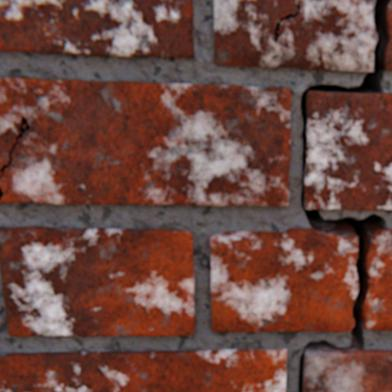brick: (0, 78, 290, 206), (0, 227, 195, 336), (0, 349, 287, 391), (0, 0, 194, 59), (304, 92, 391, 210), (303, 349, 391, 391)
broken_brick: (211, 228, 358, 331), (215, 0, 377, 72), (364, 228, 391, 330), (385, 1, 391, 71)
crack: (299, 0, 391, 391), (0, 115, 31, 179), (275, 0, 300, 45), (0, 187, 4, 200)
